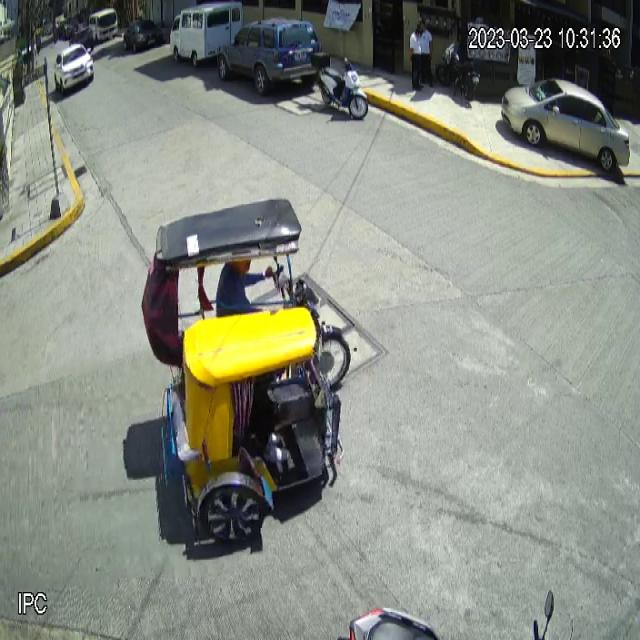Car: (500, 80, 630, 172), (217, 18, 323, 96)
Motorcycle: (310, 50, 369, 119)
Tricycle: (142, 197, 352, 546)
Van: (170, 3, 242, 68)
